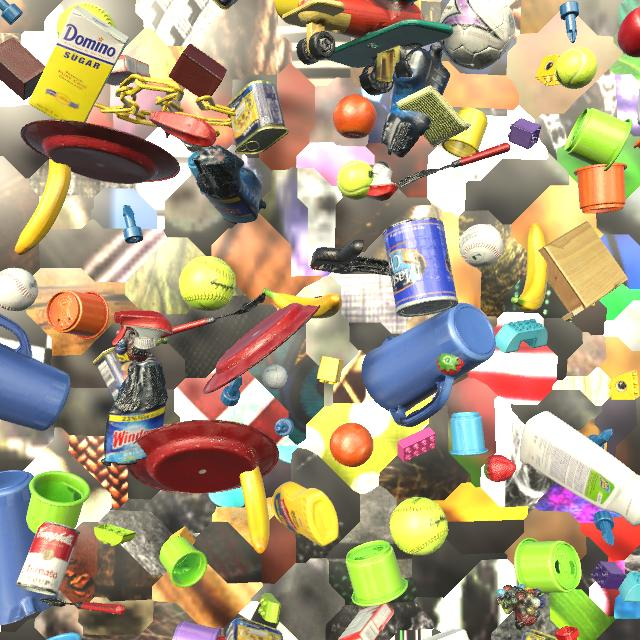ycb_002_master_chef_can: (383, 217, 459, 317)
ycb_004_sugar_box: (28, 5, 129, 122)
ycb_005_tomato_soup_can: (16, 521, 80, 596)
ycb_006_mustard_bottle: (270, 482, 339, 547)
ycb_009_gelatin_box: (338, 603, 394, 640), (106, 55, 151, 86)
ycb_010_potted_meat_can: (228, 80, 289, 155), (93, 346, 132, 401), (226, 618, 283, 640), (521, 629, 557, 640), (213, 0, 238, 10)
ycb_011_banana: (15, 158, 71, 255), (511, 223, 548, 312), (240, 445, 270, 554), (262, 288, 342, 319)
ycb_012_strawberry: (484, 454, 516, 482), (436, 354, 465, 375)
ycb_013_apple: (617, 7, 640, 57)
ycb_017_orange: (333, 94, 377, 139), (329, 423, 374, 467)
